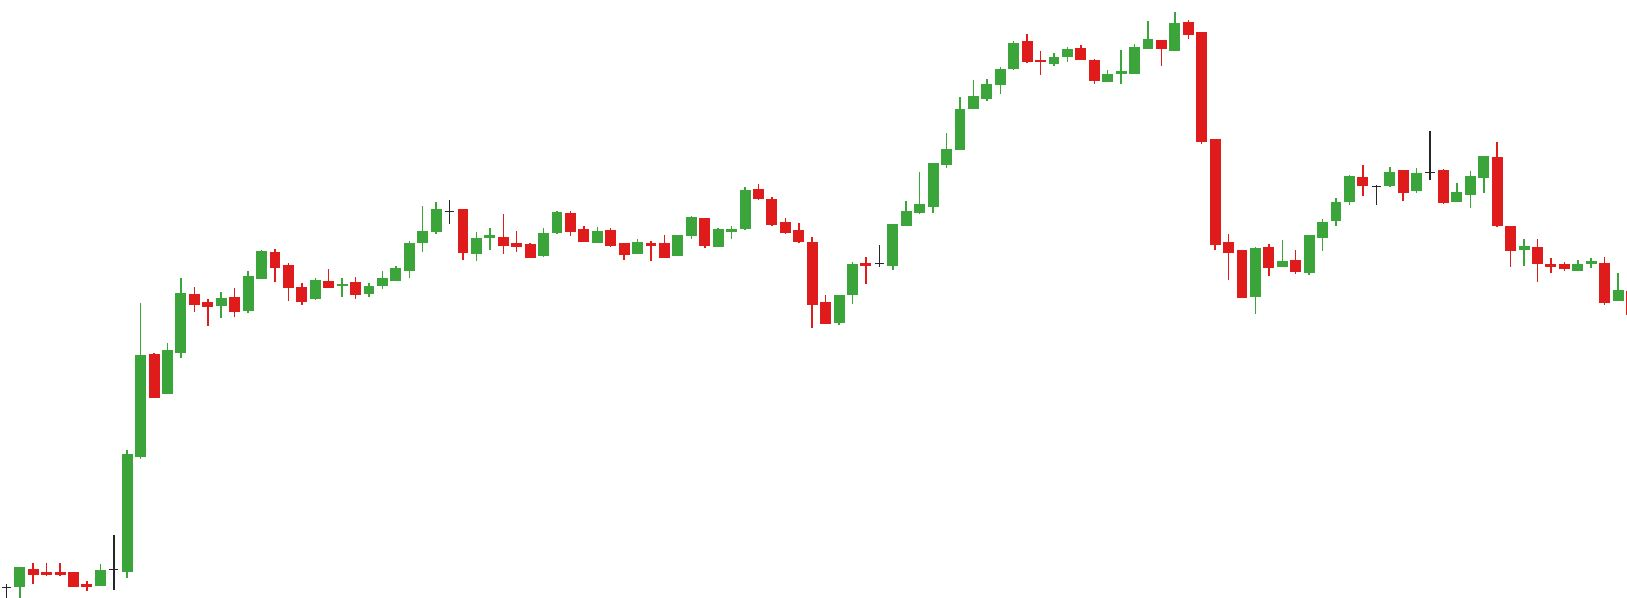sell: (1020, 13, 1193, 71)
